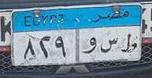2: (38, 35, 52, 62)
8: (20, 37, 37, 62)
9: (54, 34, 67, 61)
Taa: (120, 33, 137, 55)
seen: (99, 34, 118, 56)
waw: (82, 37, 98, 57)
